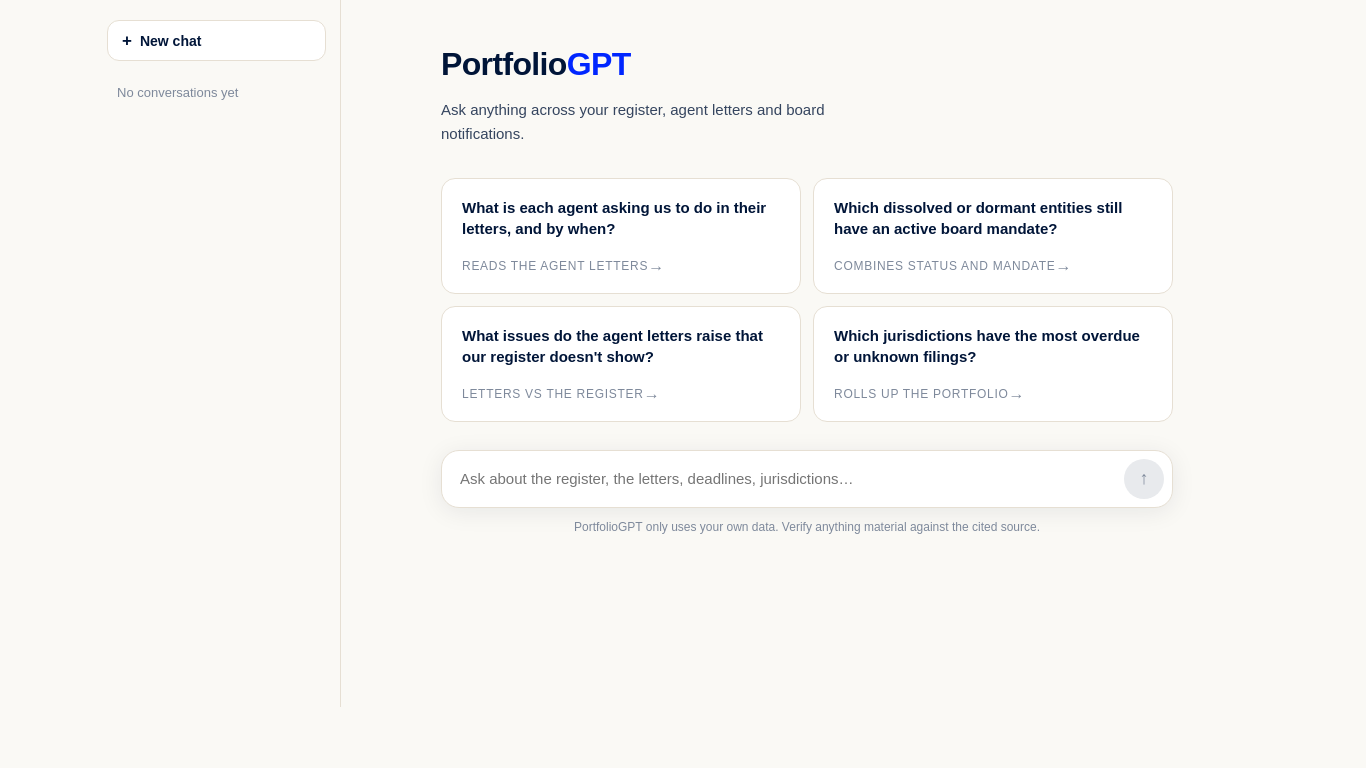
Test: PortfolioGPT (Ask) › rolls back the question if the send fails
Click the button "What is each agent asking" at x=614, y=207, box left=441, top=178, right=801, bottom=294
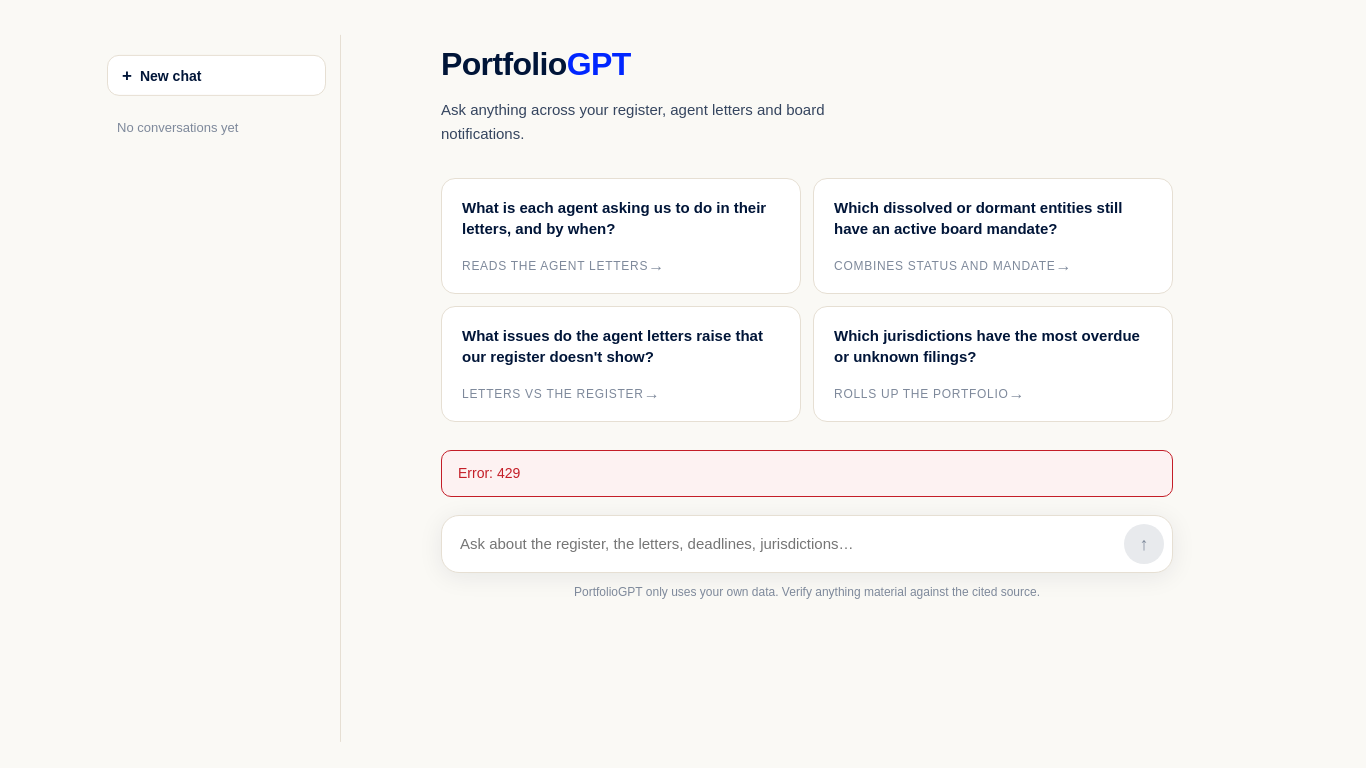
Expected: the text "Error: 429" is shown, left=441, top=450, right=1173, bottom=497
